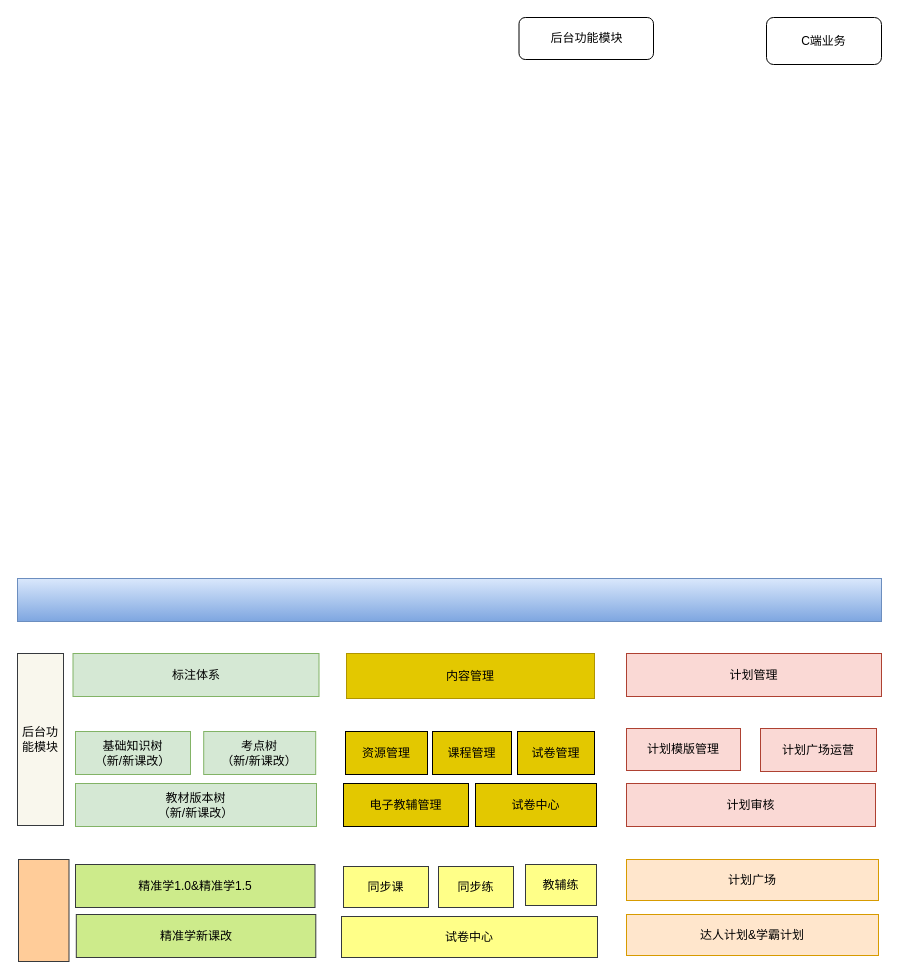
Image size: 899x979. Some labels were removed from this diagram. Here are the shapes that lost their labels. From the top down, the centre of each, then its label:
the point at 449,600: CMS内容生产平台
the point at 43,910: 对应C端业务
